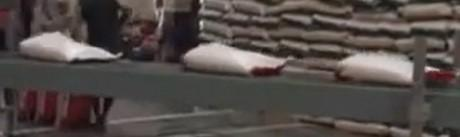rice-bag: (182, 42, 286, 76), (19, 31, 120, 62), (336, 53, 413, 85)
